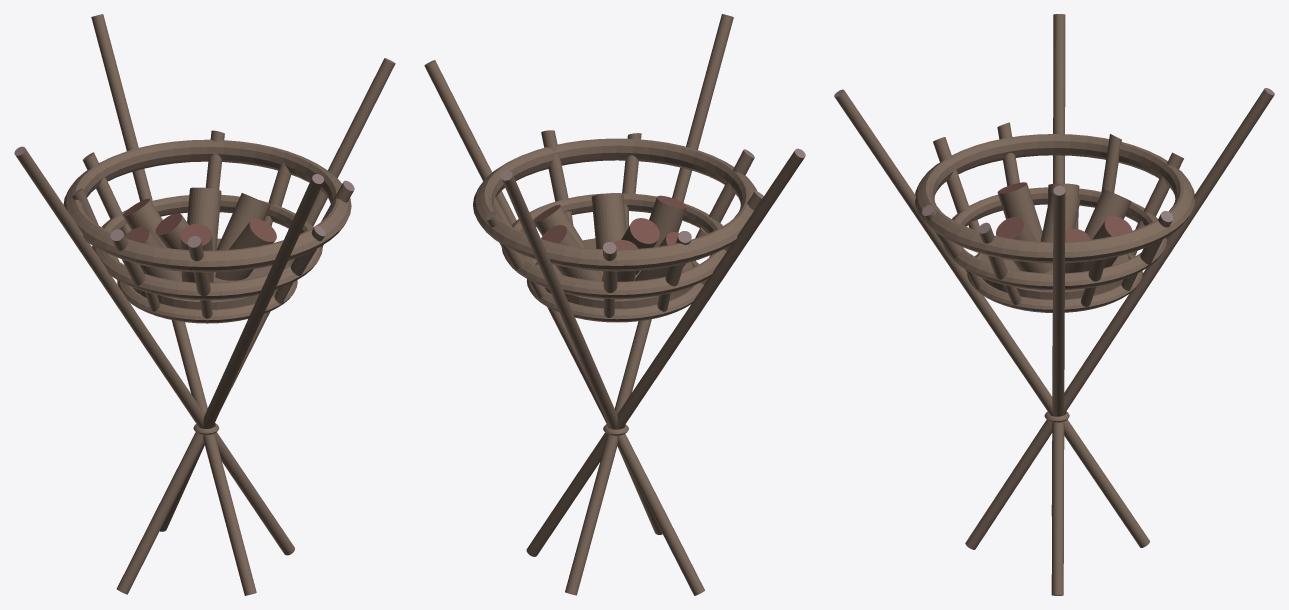
The model's file is Torch.fbx.
3 views of the same model, side by side, from view 1: azimuth 30°, elevation 25°; view 2: azimuth 150°, elevation 25°; view 3: azimuth 270°, elevation 25° (orthographic). The views are drawn at different scales.
Parts seen in each view (by area): view 1: Cylinder.003; view 2: Cylinder.003; view 3: Cylinder.003.
Part boxes in pixels (x1=…): Cylinder.003: x1=14, y1=14, x2=395, y2=595; Cylinder.003: x1=424, y1=14, x2=805, y2=595; Cylinder.003: x1=834, y1=14, x2=1274, y2=595.
Bounding box in the file's own units: 258 × 313 × 266.
